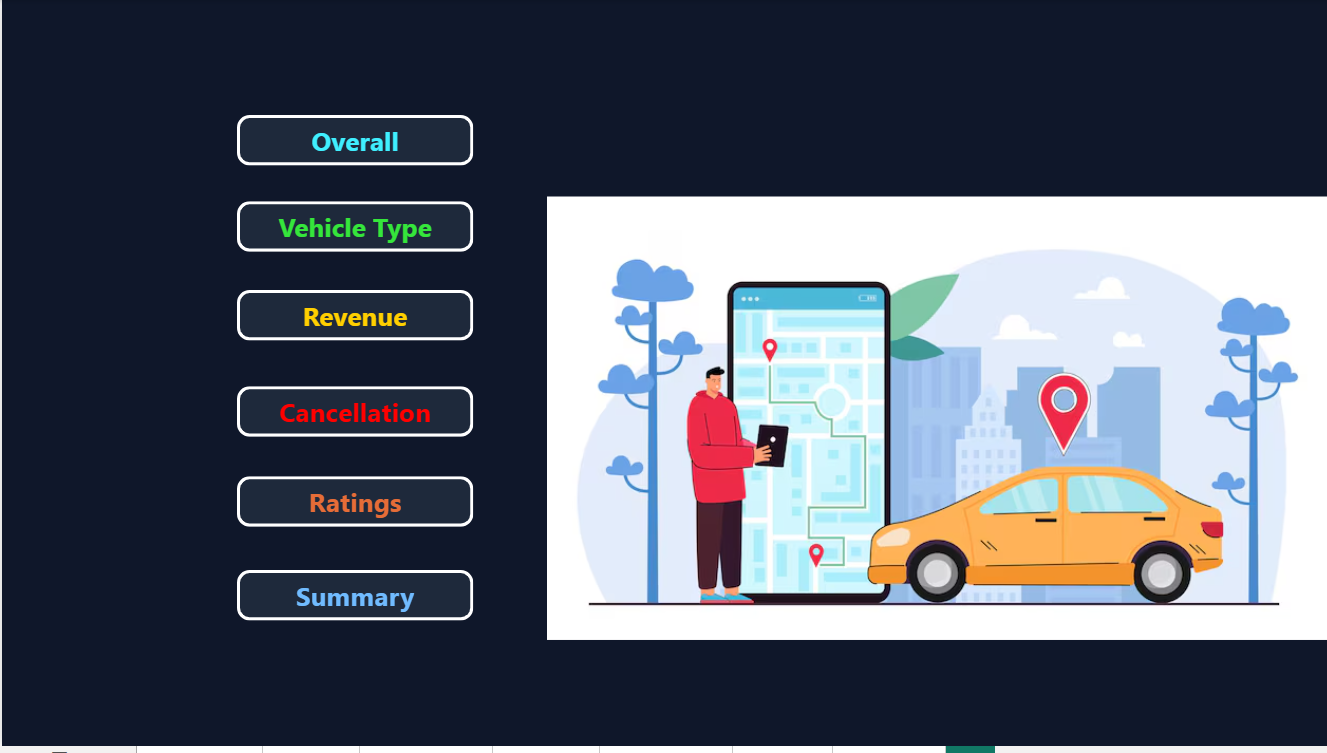

The dashboard page shown, as its layout file describes it:
{"tool":"powerbi","page":{"name":"Homepage","canvas":[1280,720],"ordinal":0},"visuals":[{"type":"actionButton","box":[226.6,111,228.1,48.7],"z":0},{"type":"actionButton","box":[226.6,194.6,228.1,48.7],"z":1000},{"type":"actionButton","box":[226.6,279.8,228.1,48.7],"z":2000},{"type":"actionButton","box":[226.6,372.5,228.1,48.7],"z":3000},{"type":"actionButton","box":[226.6,459.2,228.1,48.7],"z":4000},{"type":"actionButton","box":[226.6,550.4,228.1,48.7],"z":5000},{"type":"image","box":[526.1,85.2,754.2,635.6],"z":6000}]}

Visuals, with their boxes in screenshot pixels (x1, y1, x2, y2), scaled from the page's 1280x720 canvas onto the 1327x753 screenshot:
actionButton: 235,116,471,167
actionButton: 235,204,471,254
actionButton: 235,293,471,344
actionButton: 235,390,471,441
actionButton: 235,480,471,531
actionButton: 235,576,471,627
image: 545,89,1326,752
